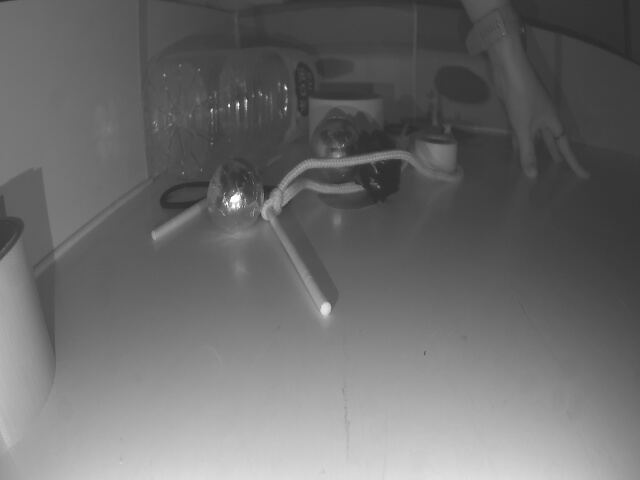Dead: (360, 133, 399, 193)
Live: (207, 157, 265, 230), (313, 116, 358, 174)
